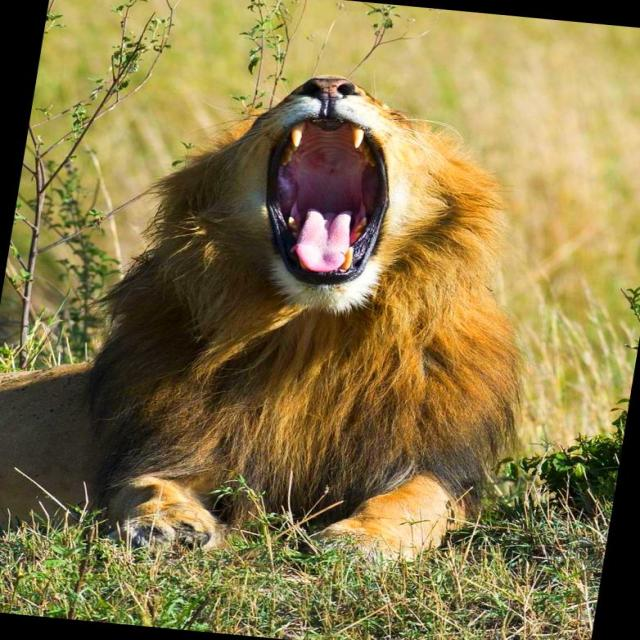Lion: (0, 42, 577, 588)
